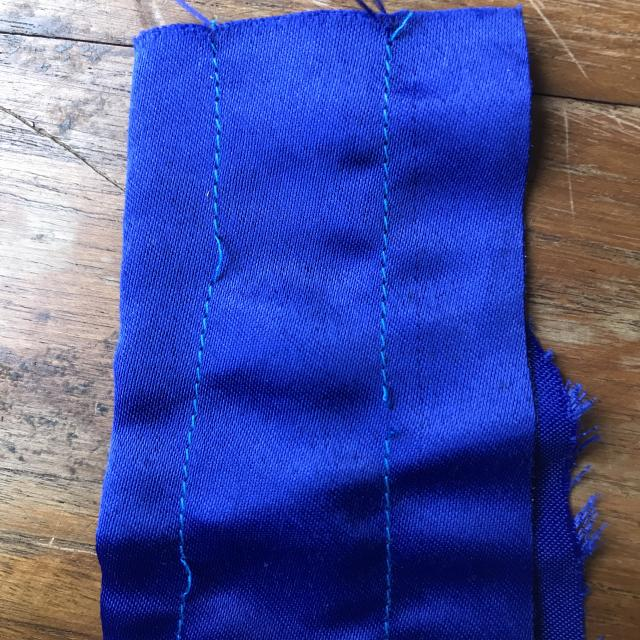broken: (371, 369, 424, 455)
good: (166, 367, 220, 459)
skip: (176, 208, 239, 307), (157, 532, 215, 605)
